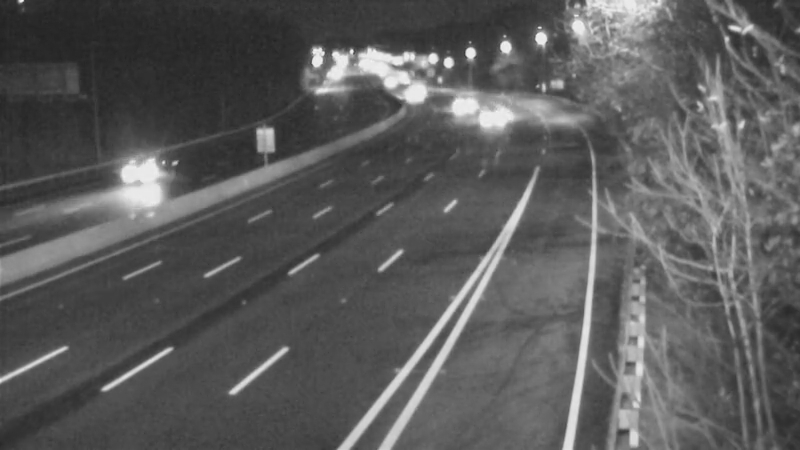vehicle: (111, 133, 191, 213), (398, 70, 448, 120), (436, 74, 486, 124), (458, 95, 508, 145)
